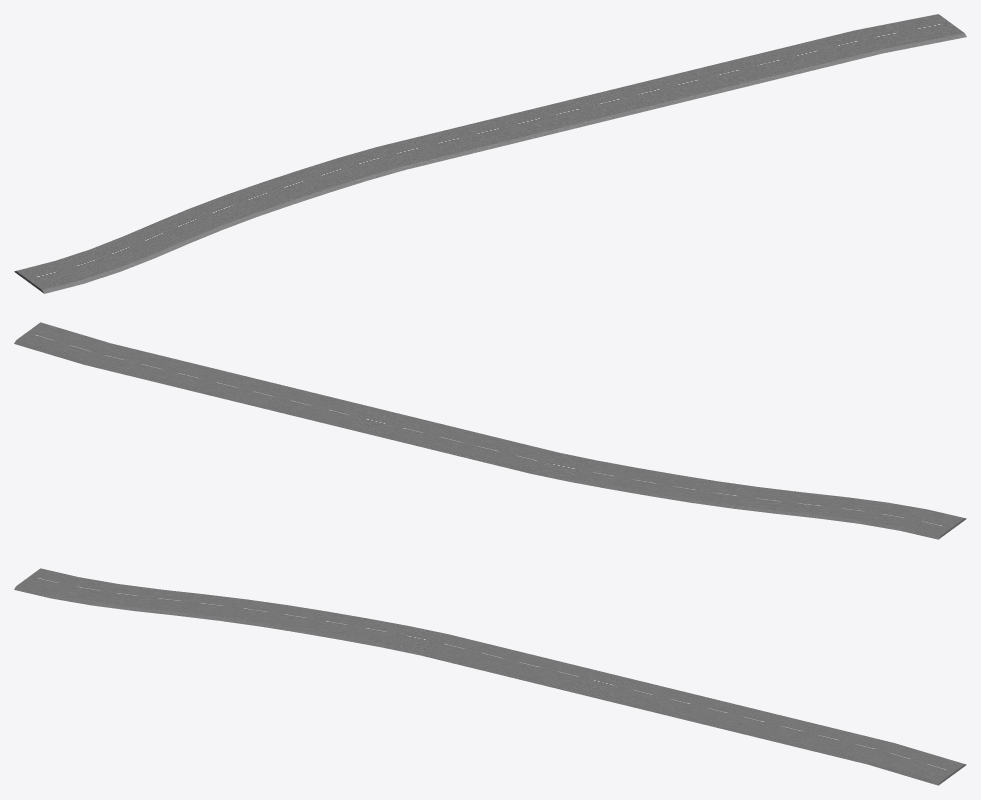
File: carretera.obj
3 renders of one model, top to bottom at view 1: azimuth 30°, elevation 25°; view 2: azimuth 150°, elevation 25°; view 3: azimuth 330°, elevation 25°, orthographic. The views are drawn at different scales.
Parts seen in each view (by area): view 1: carretera.002, carretera; view 2: carretera, carretera.002; view 3: carretera, carretera.002.
Part boxes in pixels (box(x1,y1,x2,y2)): carretera.002: box(457, 14, 966, 150); carretera: box(14, 127, 484, 293); carretera: box(457, 434, 966, 539); carretera.002: box(14, 322, 483, 455); carretera: box(14, 568, 521, 673); carretera.002: box(495, 652, 966, 785).
Size of the model in its own units: 51.9 by 0.1177 by 6.33.
2 materials, 2 textured.
